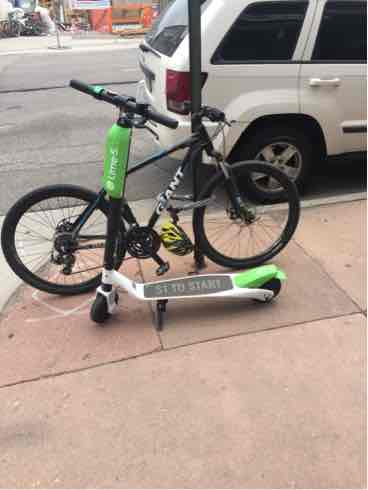scooter: (72, 74, 290, 328)
